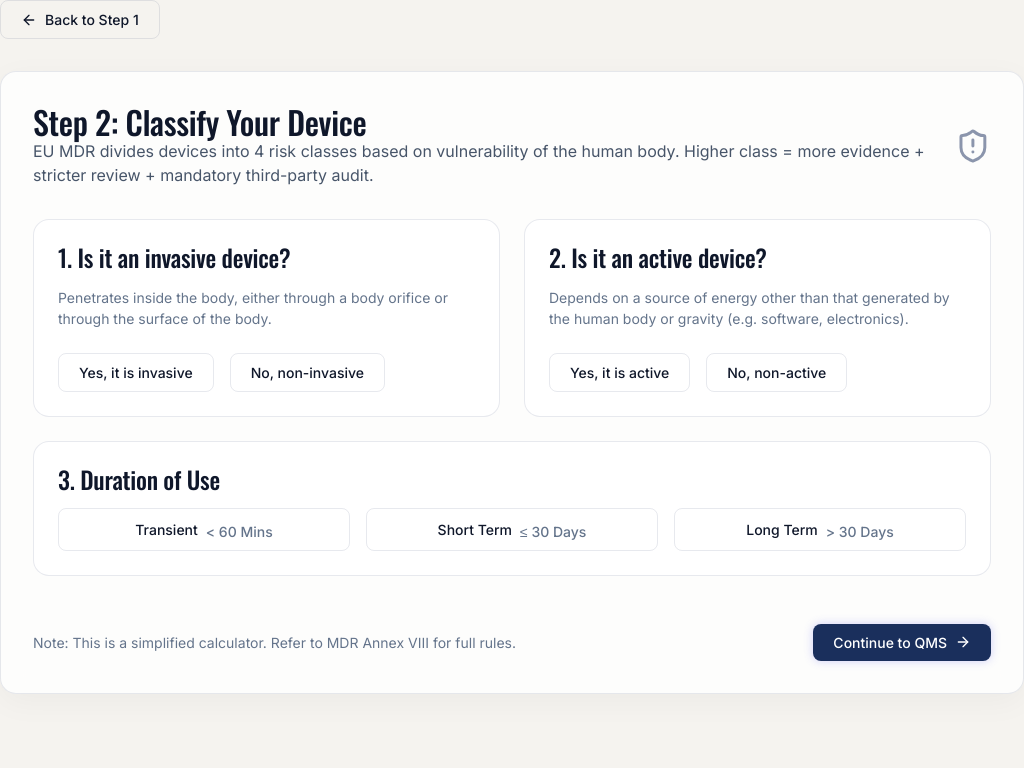
it: Step2 component › step2.inv.04: Class III shown for invasive + long-term
Step 1. Click the button "Yes, it is invasive" → (136, 372), box [58,353,214,392]
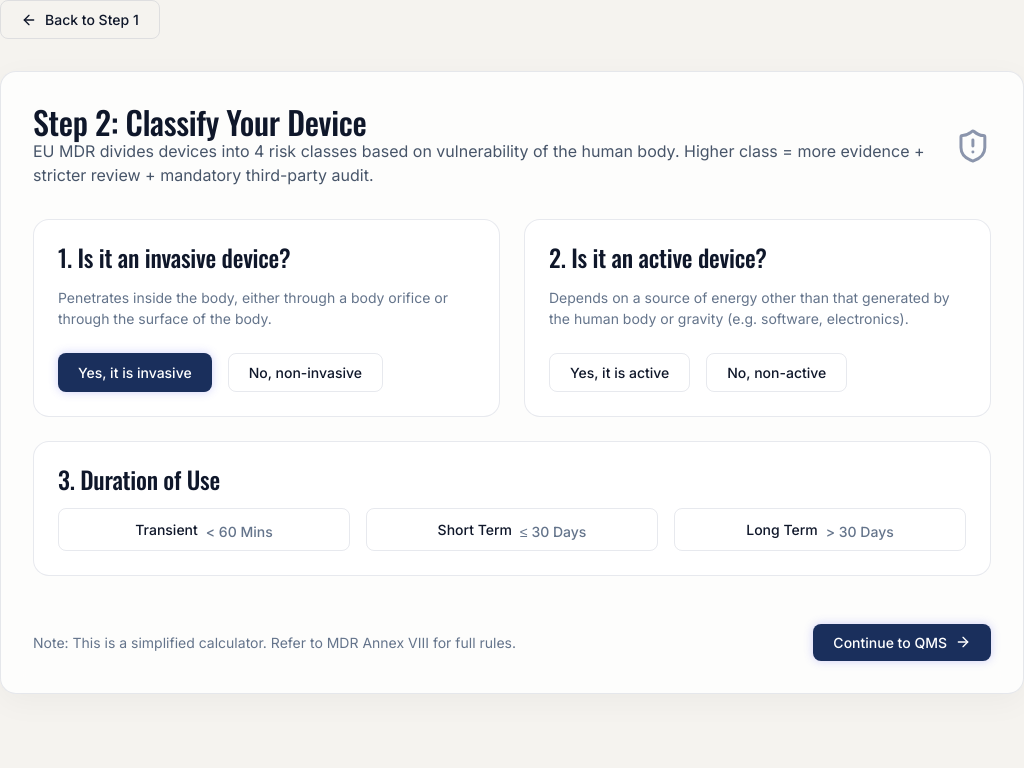
Step 2. Click the button "No, non-active" → (777, 372), box [706,353,847,392]
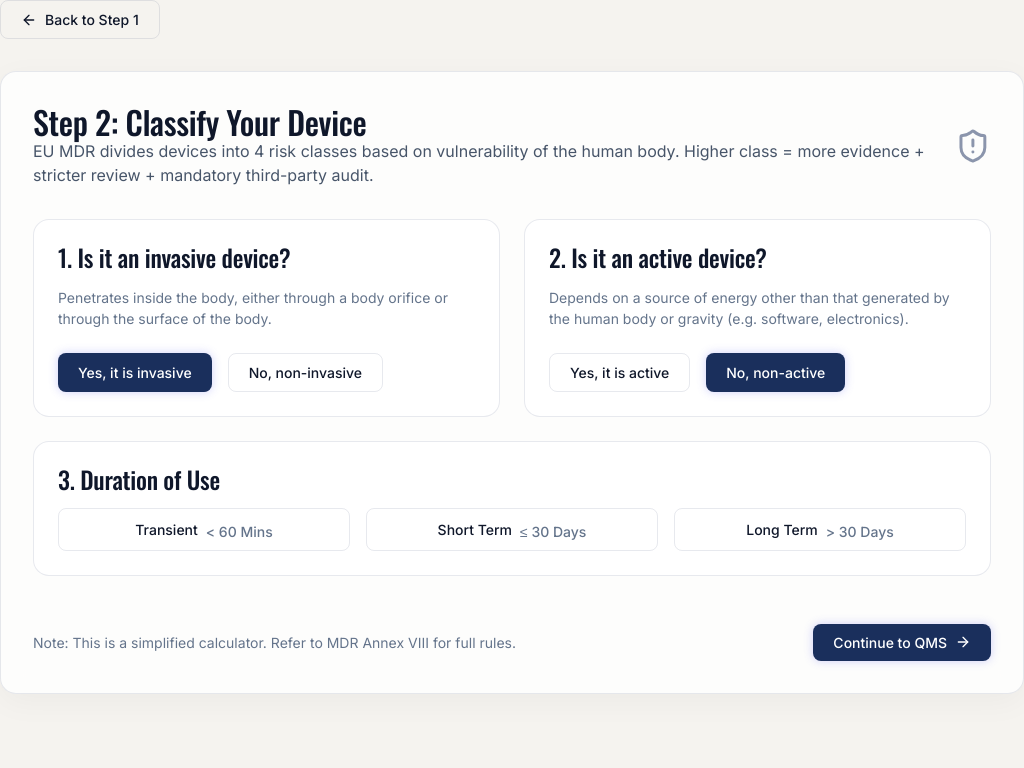
Step 3. Click the button "long term > 30 days" → (820, 530), box [674,508,966,551]
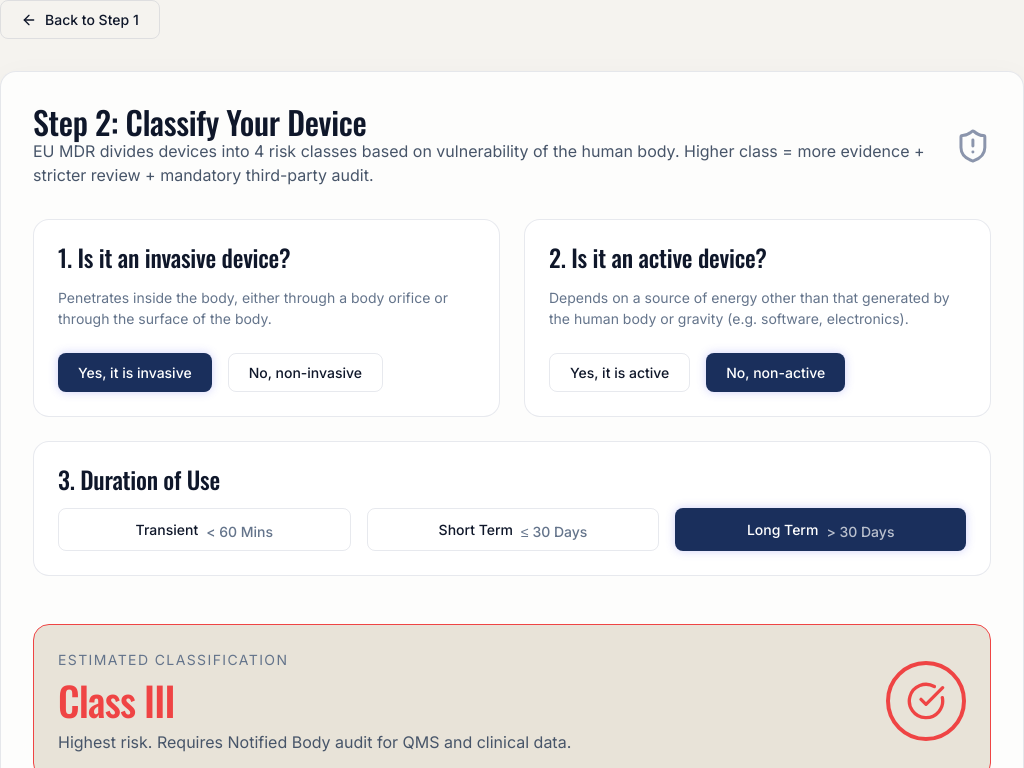
Result: the heading "Class III" is shown at [58,670,175,730]
